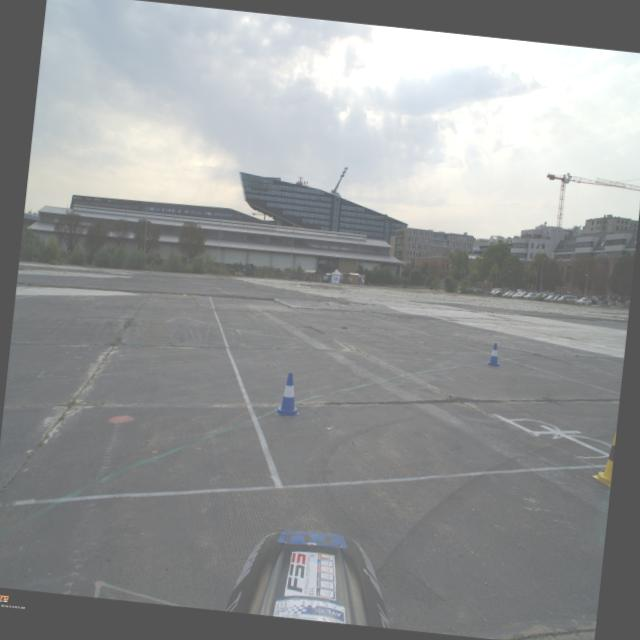blue_cone: (274, 371, 304, 417), (485, 342, 503, 366)
yellow_cone: (590, 427, 616, 487)
